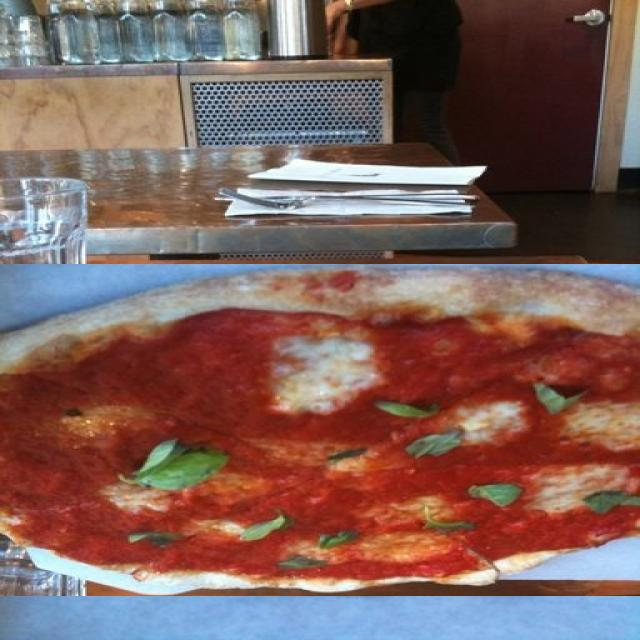basil: (119, 370, 229, 421), (404, 399, 466, 434), (532, 444, 588, 478), (239, 319, 293, 349), (585, 346, 640, 372), (467, 352, 523, 376), (374, 443, 441, 462), (423, 327, 475, 351), (318, 310, 360, 332), (276, 288, 330, 305), (323, 393, 368, 412), (131, 312, 181, 329)
pizza: (0, 264, 640, 596)
